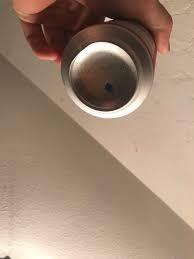metal: (60, 18, 160, 123)
